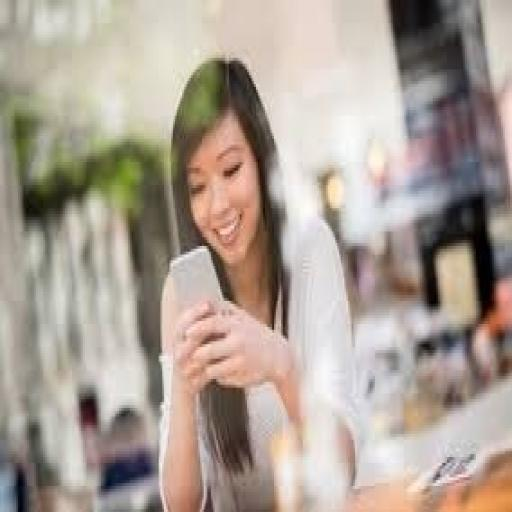texting: (155, 52, 362, 509)
